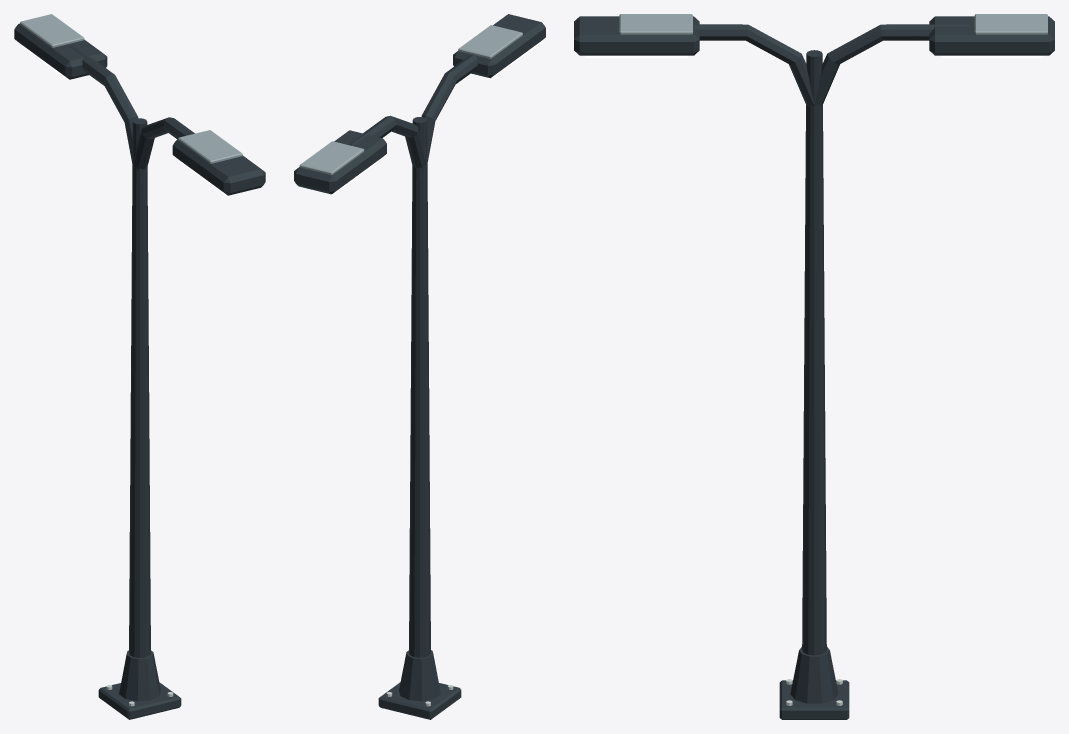
Rendered from Streetlight_Double.fbx.
3 views of the same model, side by side, from view 1: azimuth 30°, elevation 25°; view 2: azimuth 150°, elevation 25°; view 3: azimuth 270°, elevation 25° (orthographic). The views are drawn at different scales.
Visible parts, largest first — view 1: Streetlight_Double; view 2: Streetlight_Double; view 3: Streetlight_Double.
Boxes of the visible parts, x1,y1,x2,y2 form: Streetlight_Double: (14, 14, 265, 719); Streetlight_Double: (294, 14, 545, 719); Streetlight_Double: (574, 14, 1054, 719).
Bounding box in the file's own units: 36 × 391 × 249.
